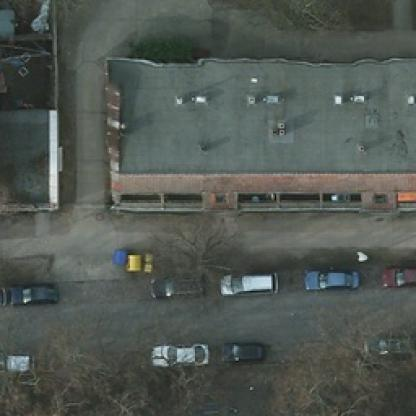car: (146, 270, 206, 299), (218, 273, 274, 299), (304, 268, 361, 293), (218, 340, 265, 364), (154, 343, 206, 364), (6, 283, 58, 299)
